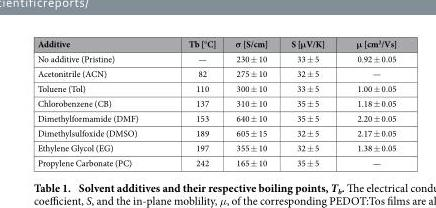table: (36, 37, 396, 168)
table column: (36, 37, 162, 168), (162, 37, 225, 168), (278, 37, 339, 168), (339, 37, 396, 168), (225, 37, 278, 168)
table column header: (36, 37, 396, 50)
table row: (36, 50, 396, 65), (36, 65, 396, 80), (36, 80, 396, 95), (36, 95, 396, 110), (36, 110, 396, 125), (36, 125, 396, 140), (36, 140, 396, 154), (36, 154, 396, 168), (36, 37, 396, 50)
